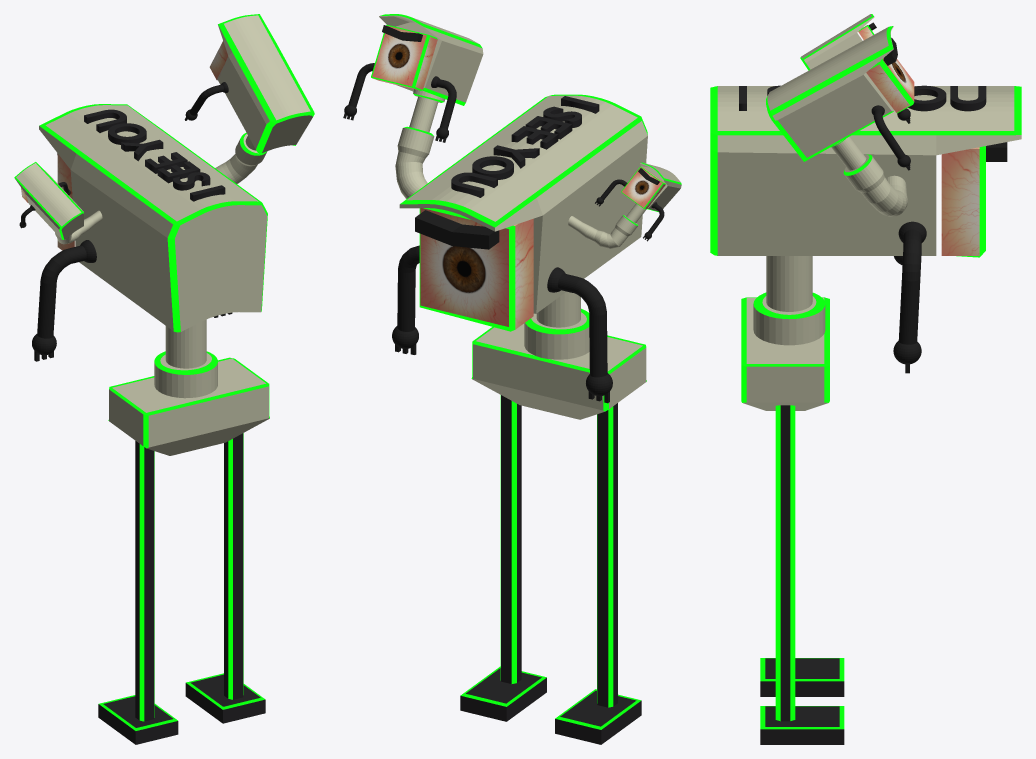
The model's file is J_LigthReceptor.fbx.
3 views of the same model, side by side, from view 1: azimuth 30°, elevation 25°; view 2: azimuth 150°, elevation 25°; view 3: azimuth 270°, elevation 25° (orthographic). The views are drawn at different scales.
Visible parts, largest first — view 1: CameraMan; view 2: CameraMan; view 3: CameraMan.
Part boxes in pixels (box(x1,y1,x2,y2)): CameraMan: box(14, 14, 314, 744); CameraMan: box(343, 14, 681, 744); CameraMan: box(710, 14, 1021, 744).
Size of the model in its own units: 111 by 244 by 94.39.
Materials: 5 (1 with a texture image).
